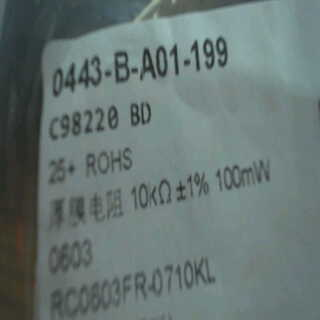10kR: (128, 177, 174, 210)
